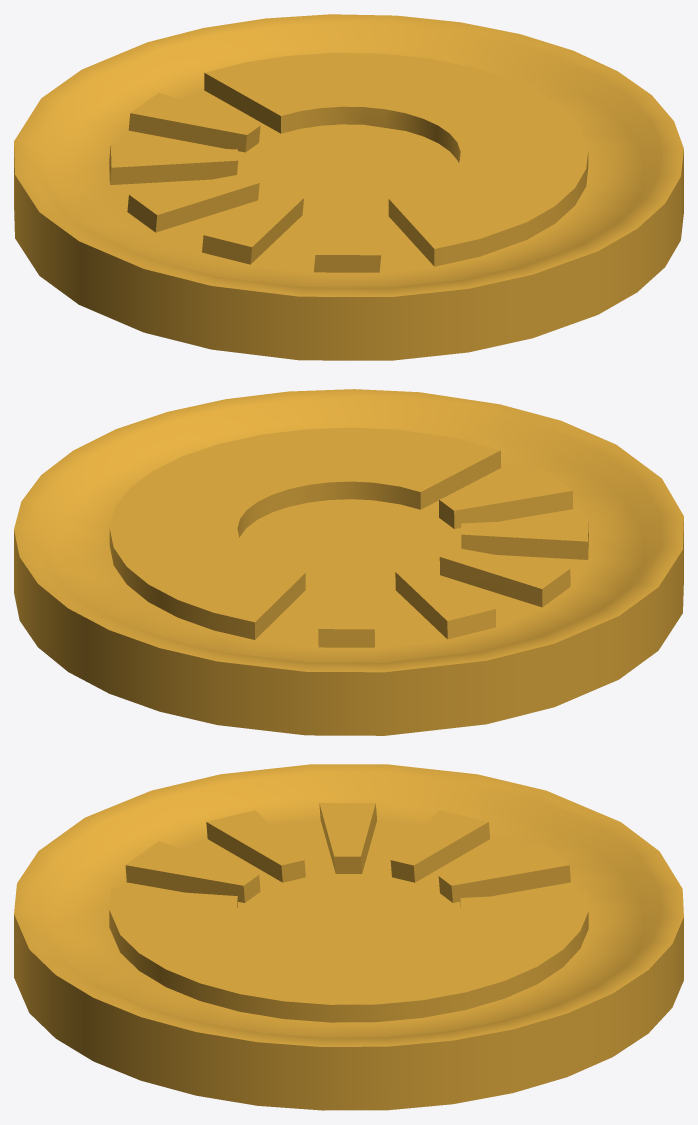
Rendered from coin_compressed2.glb.
The picture shows the model from 3 angles, top to bottom: view 1: azimuth 30°, elevation 25°; view 2: azimuth 150°, elevation 25°; view 3: azimuth 270°, elevation 25°; orthographic projection.
Visible parts, largest first — view 1: Circle; view 2: Circle; view 3: Circle.
Boxes of the visible parts, bbox=[...] form: Circle: bbox=[14, 14, 683, 360]; Circle: bbox=[14, 389, 683, 735]; Circle: bbox=[14, 764, 683, 1110].
Bounding box in the file's own units: 0.796 × 0.0883 × 0.7974.
